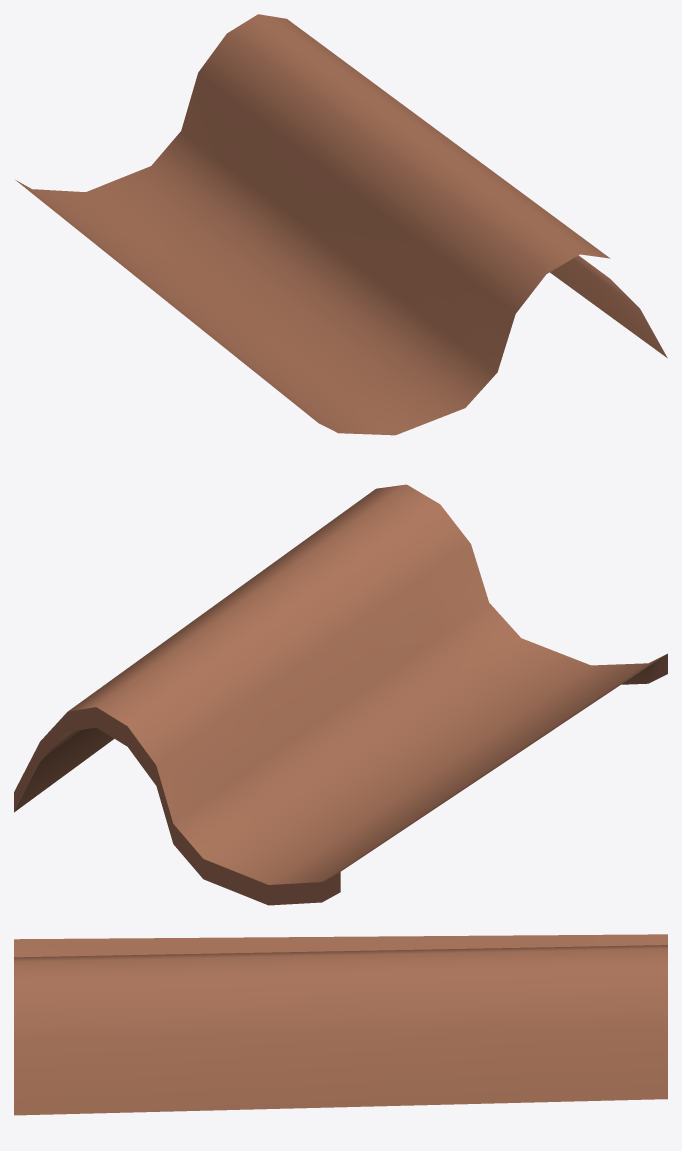
Rendered from mission-pantile.glb.
The picture shows the model from 3 angles, top to bottom: view 1: azimuth 30°, elevation 25°; view 2: azimuth 150°, elevation 25°; view 3: azimuth 270°, elevation 25°; orthographic projection. The views are drawn at different scales.
Visible parts, largest first — view 1: Frame; view 2: Frame; view 3: Frame.
Part boxes in pixels (box(x1,y1,x2,y2)): Frame: box(15, 14, 667, 435); Frame: box(14, 484, 667, 905); Frame: box(14, 934, 667, 1115).
Size of the model in its own units: 0.25 by 0.114 by 0.392.
